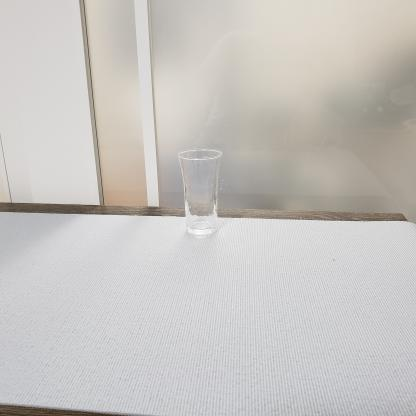glass: (177, 142, 239, 246)
